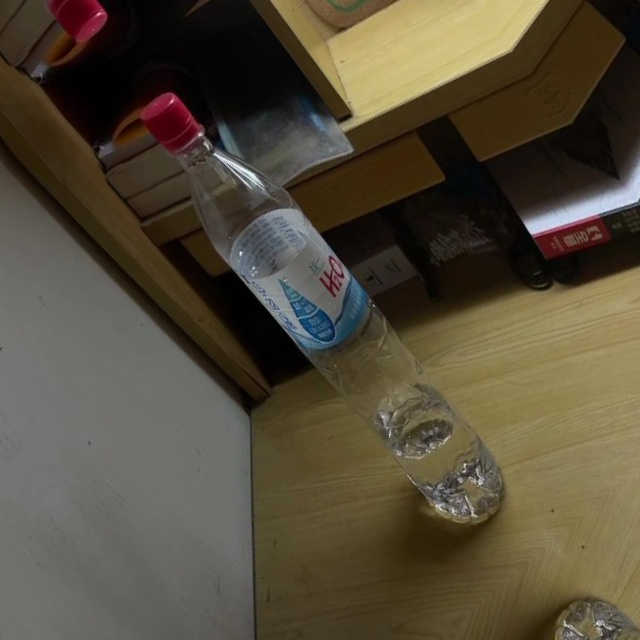Water: (116, 71, 532, 543)
